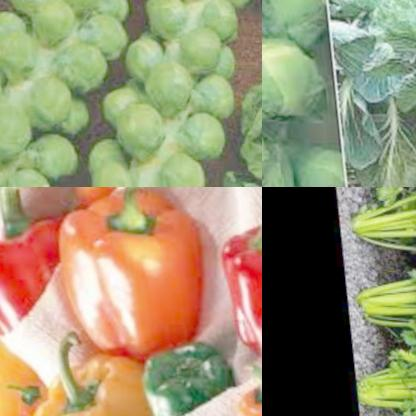bell pepper: (45, 187, 214, 365), (0, 187, 91, 337), (14, 350, 156, 416), (125, 343, 227, 416), (211, 226, 262, 364), (0, 295, 48, 416), (224, 355, 262, 416)
brus capusta: (0, 0, 221, 187), (58, 0, 262, 187), (262, 0, 355, 187)
celery: (334, 187, 416, 416)
